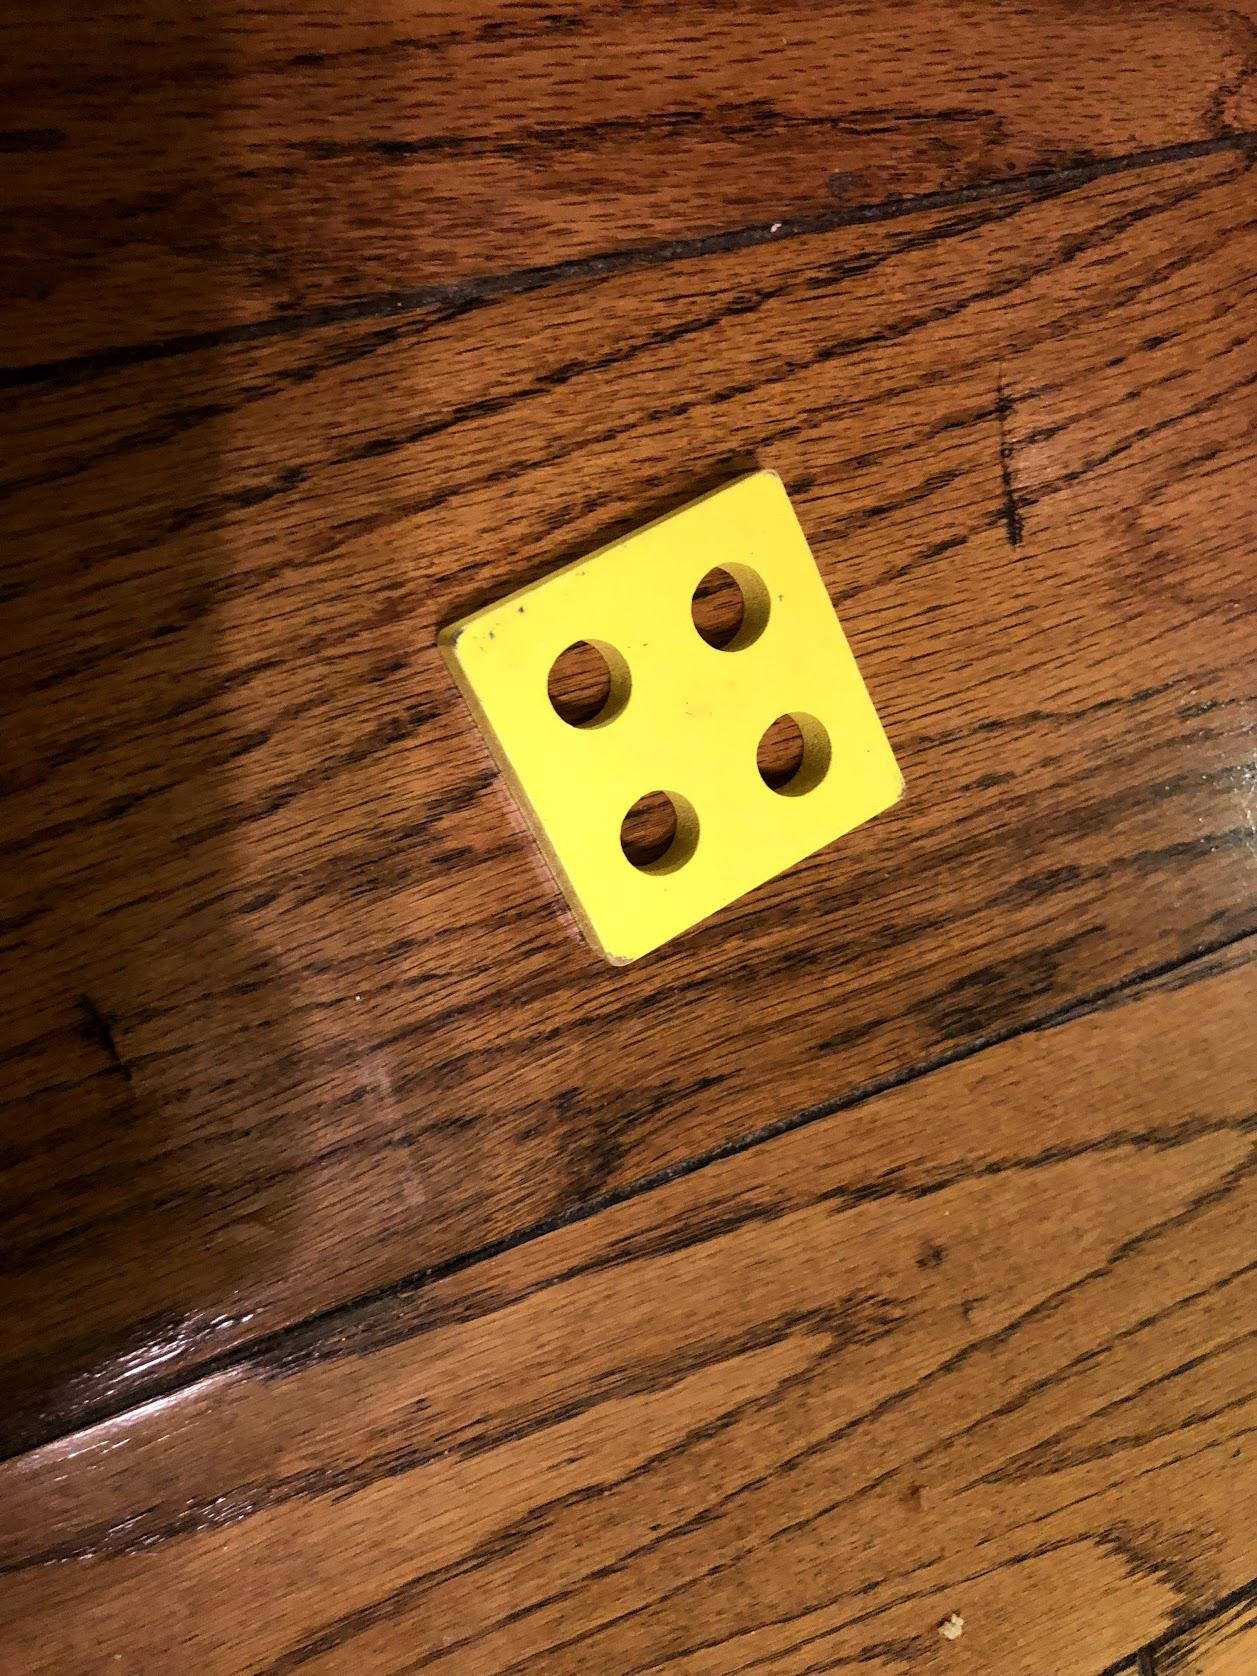Square: (438, 457, 914, 979)
